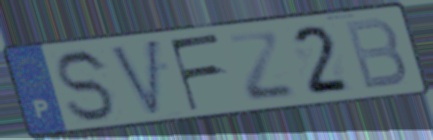2: (289, 23, 351, 98)
B: (341, 16, 410, 93)
F: (166, 31, 226, 114)
S: (55, 47, 119, 126)
V: (107, 35, 162, 120)
Z: (224, 31, 299, 104)
